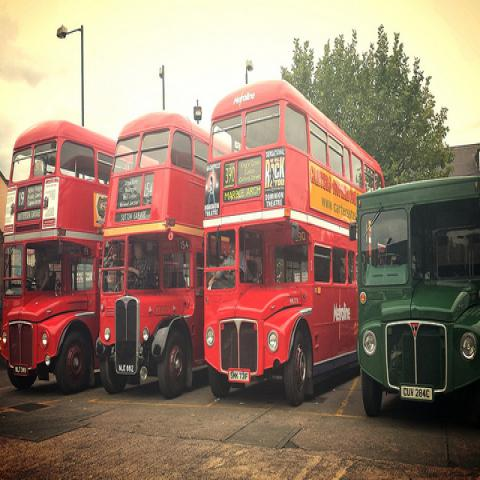bus: (202, 77, 385, 406), (347, 173, 479, 425), (99, 113, 213, 396), (1, 120, 118, 395)
truck: (348, 172, 479, 419)
